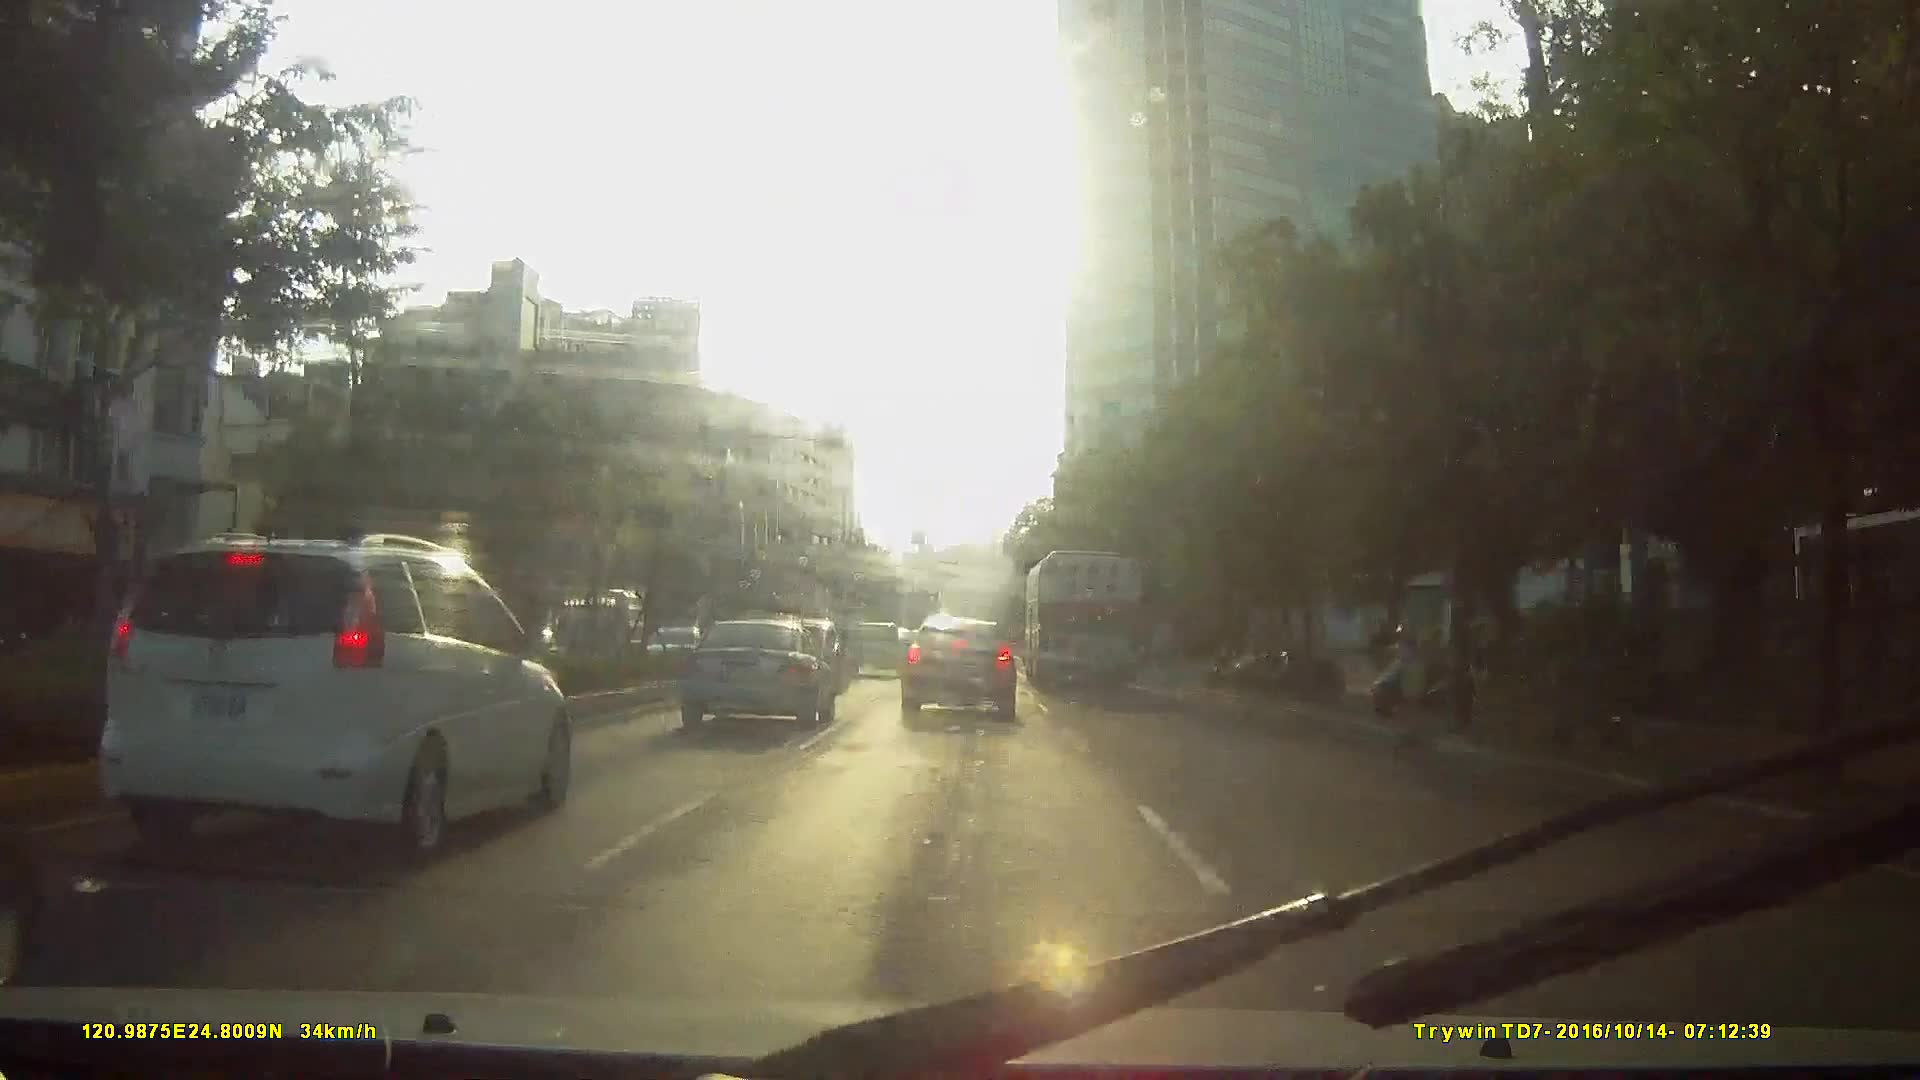vehicle: (76, 522, 579, 866), (251, 556, 684, 868), (669, 615, 833, 735), (1021, 541, 1143, 692), (895, 616, 1019, 719), (537, 585, 636, 671), (847, 620, 903, 679)
